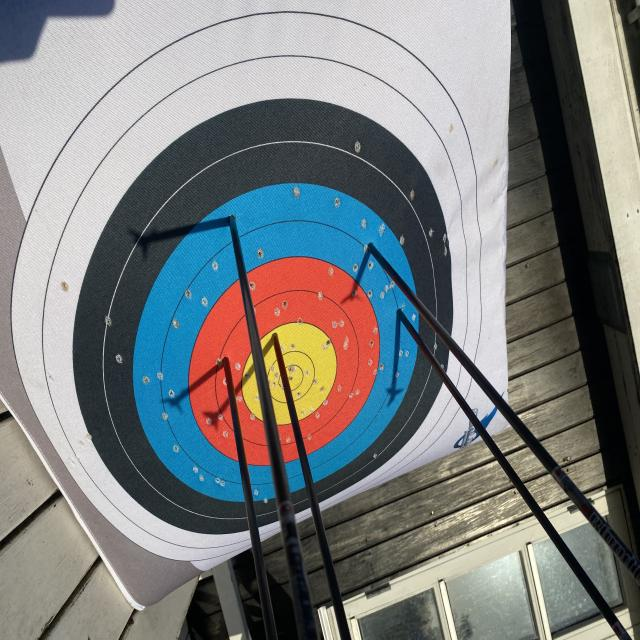Arrow_Blue: (216, 190, 249, 246), (365, 231, 389, 277), (387, 302, 419, 336)
Arrow_Red: (212, 349, 243, 376)
Arrow_Yellow: (268, 323, 296, 368)
